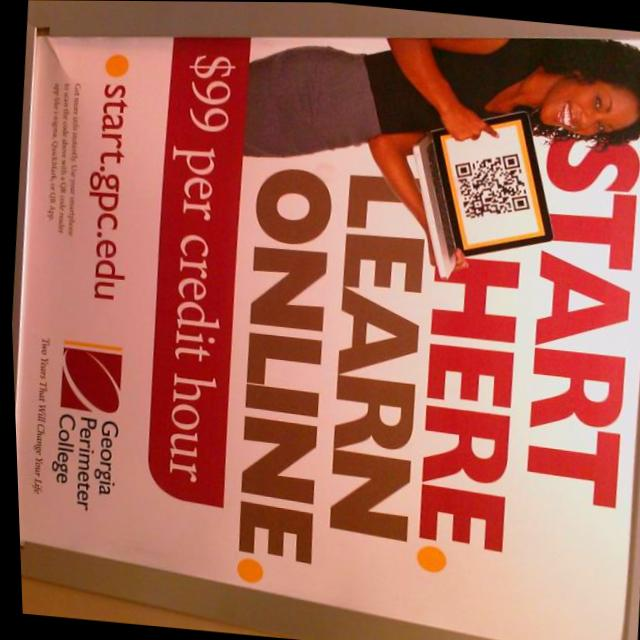qrcode: (448, 148, 534, 227)
